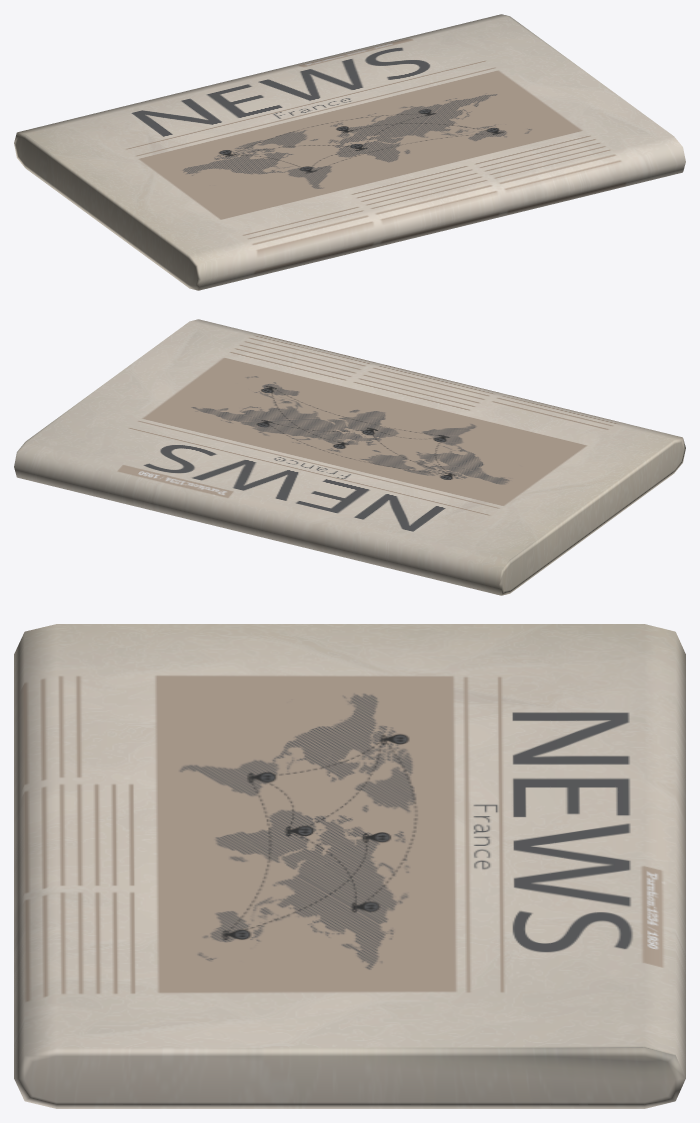
Rendered from Newspaper.fbx.
3 renders of one model, top to bottom at view 1: azimuth 30°, elevation 25°; view 2: azimuth 150°, elevation 25°; view 3: azimuth 270°, elevation 25°, orthographic. The views are drawn at different scales.
Parts seen in each view (by area): view 1: pCube9; view 2: pCube9; view 3: pCube9.
Part boxes in pixels (x1,y1,x2,y2): pCube9: [14, 14, 685, 290]; pCube9: [14, 319, 685, 595]; pCube9: [14, 624, 685, 1108].
Size of the model in its own units: 30 by 2 by 20.
